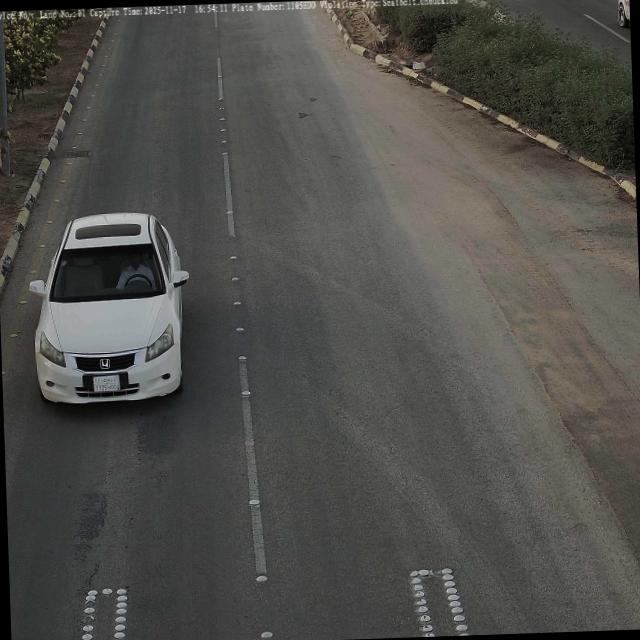person_without_seatbelt: (117, 252, 156, 287)
